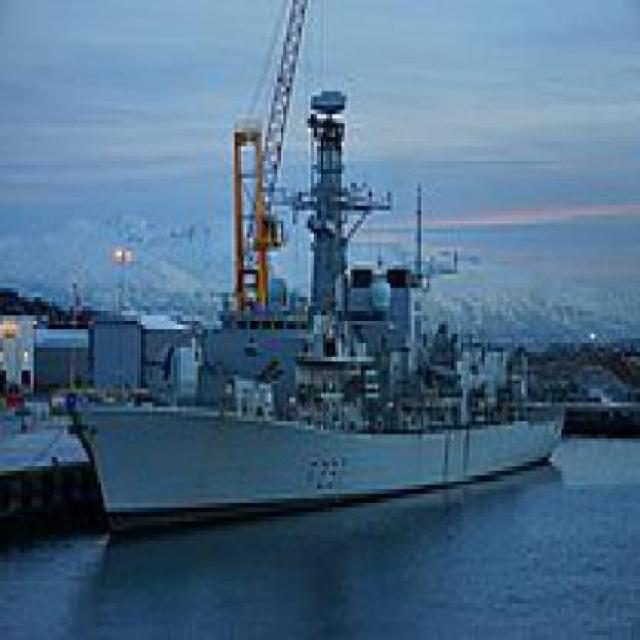warship2: (59, 60, 577, 531)
